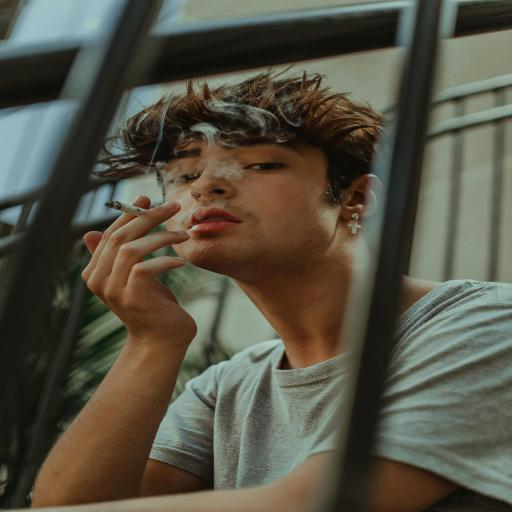terdeteksi pegang rokok: (68, 186, 186, 308)
